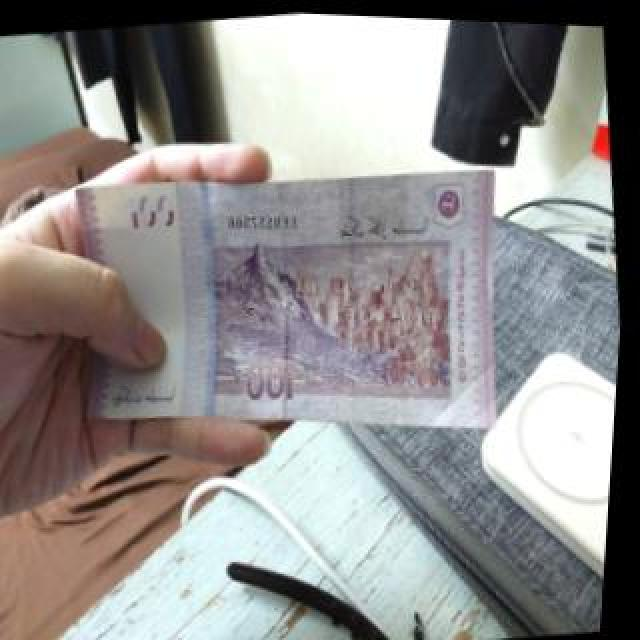100 Ringgit: (50, 130, 529, 476)
